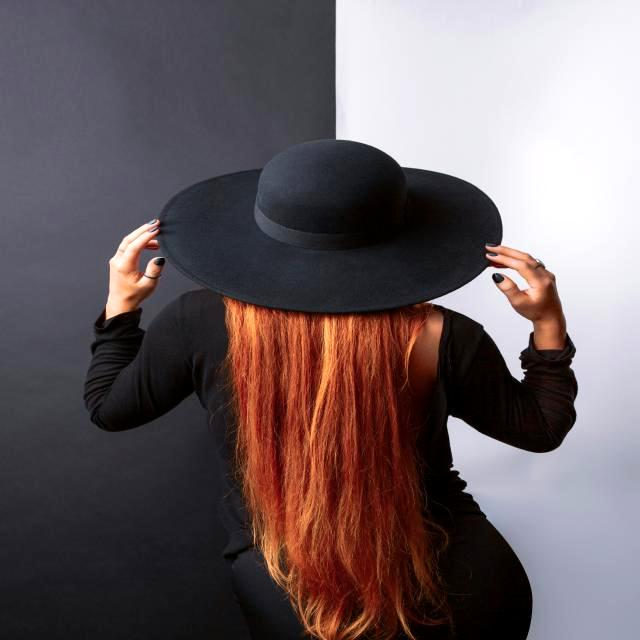no_hard_hat: (157, 140, 502, 314)
person: (84, 140, 577, 640)
